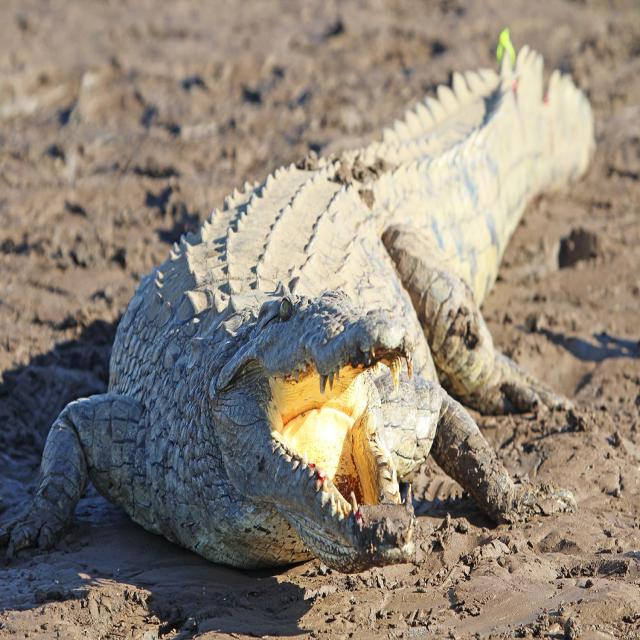crocodile: (0, 16, 629, 618)
